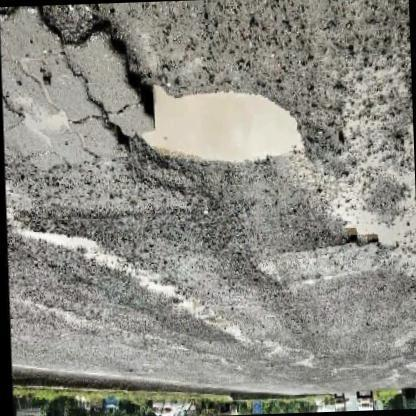pothole: (120, 65, 312, 166), (20, 226, 132, 277), (334, 187, 416, 254), (41, 3, 126, 46)
